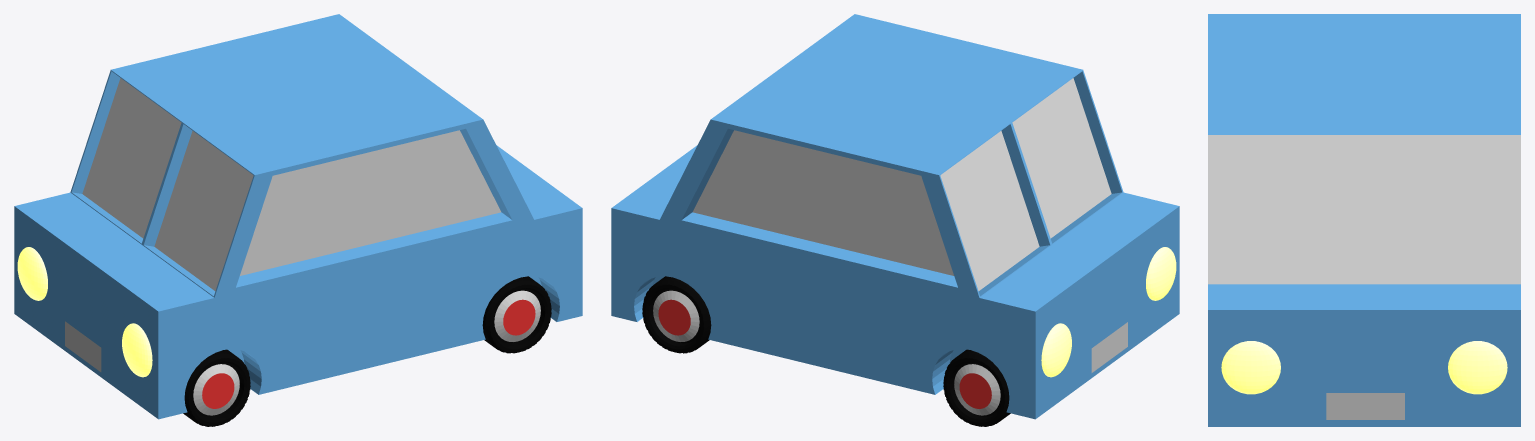
Rendered from toy_car.fbx.
3 views of the same model, side by side, from view 1: azimuth 30°, elevation 25°; view 2: azimuth 150°, elevation 25°; view 3: azimuth 270°, elevation 25° (orthographic). The views are drawn at different scales.
Visible parts, largest first — view 1: Body, Cylinder, Light, No. PLate; view 2: Body, Cylinder, Light, No. PLate; view 3: Body, Light, No. PLate.
Part boxes in pixels (x1=…): Body: x1=14, y1=14, x2=582, y2=419; Cylinder: x1=183, y1=276, x2=551, y2=426; Light: x1=17, y1=247, x2=152, y2=377; No. PLate: x1=65, y1=321, x2=101, y2=371; Body: x1=611, y1=14, x2=1179, y2=419; Cylinder: x1=642, y1=276, x2=1010, y2=426; Light: x1=1041, y1=247, x2=1176, y2=377; No. PLate: x1=1091, y1=322, x2=1127, y2=372; Body: x1=1208, y1=14, x2=1520, y2=426; Light: x1=1221, y1=341, x2=1507, y2=394; No. PLate: x1=1326, y1=393, x2=1404, y2=419.
Size of the model in its own units: 856 by 453 by 485.
